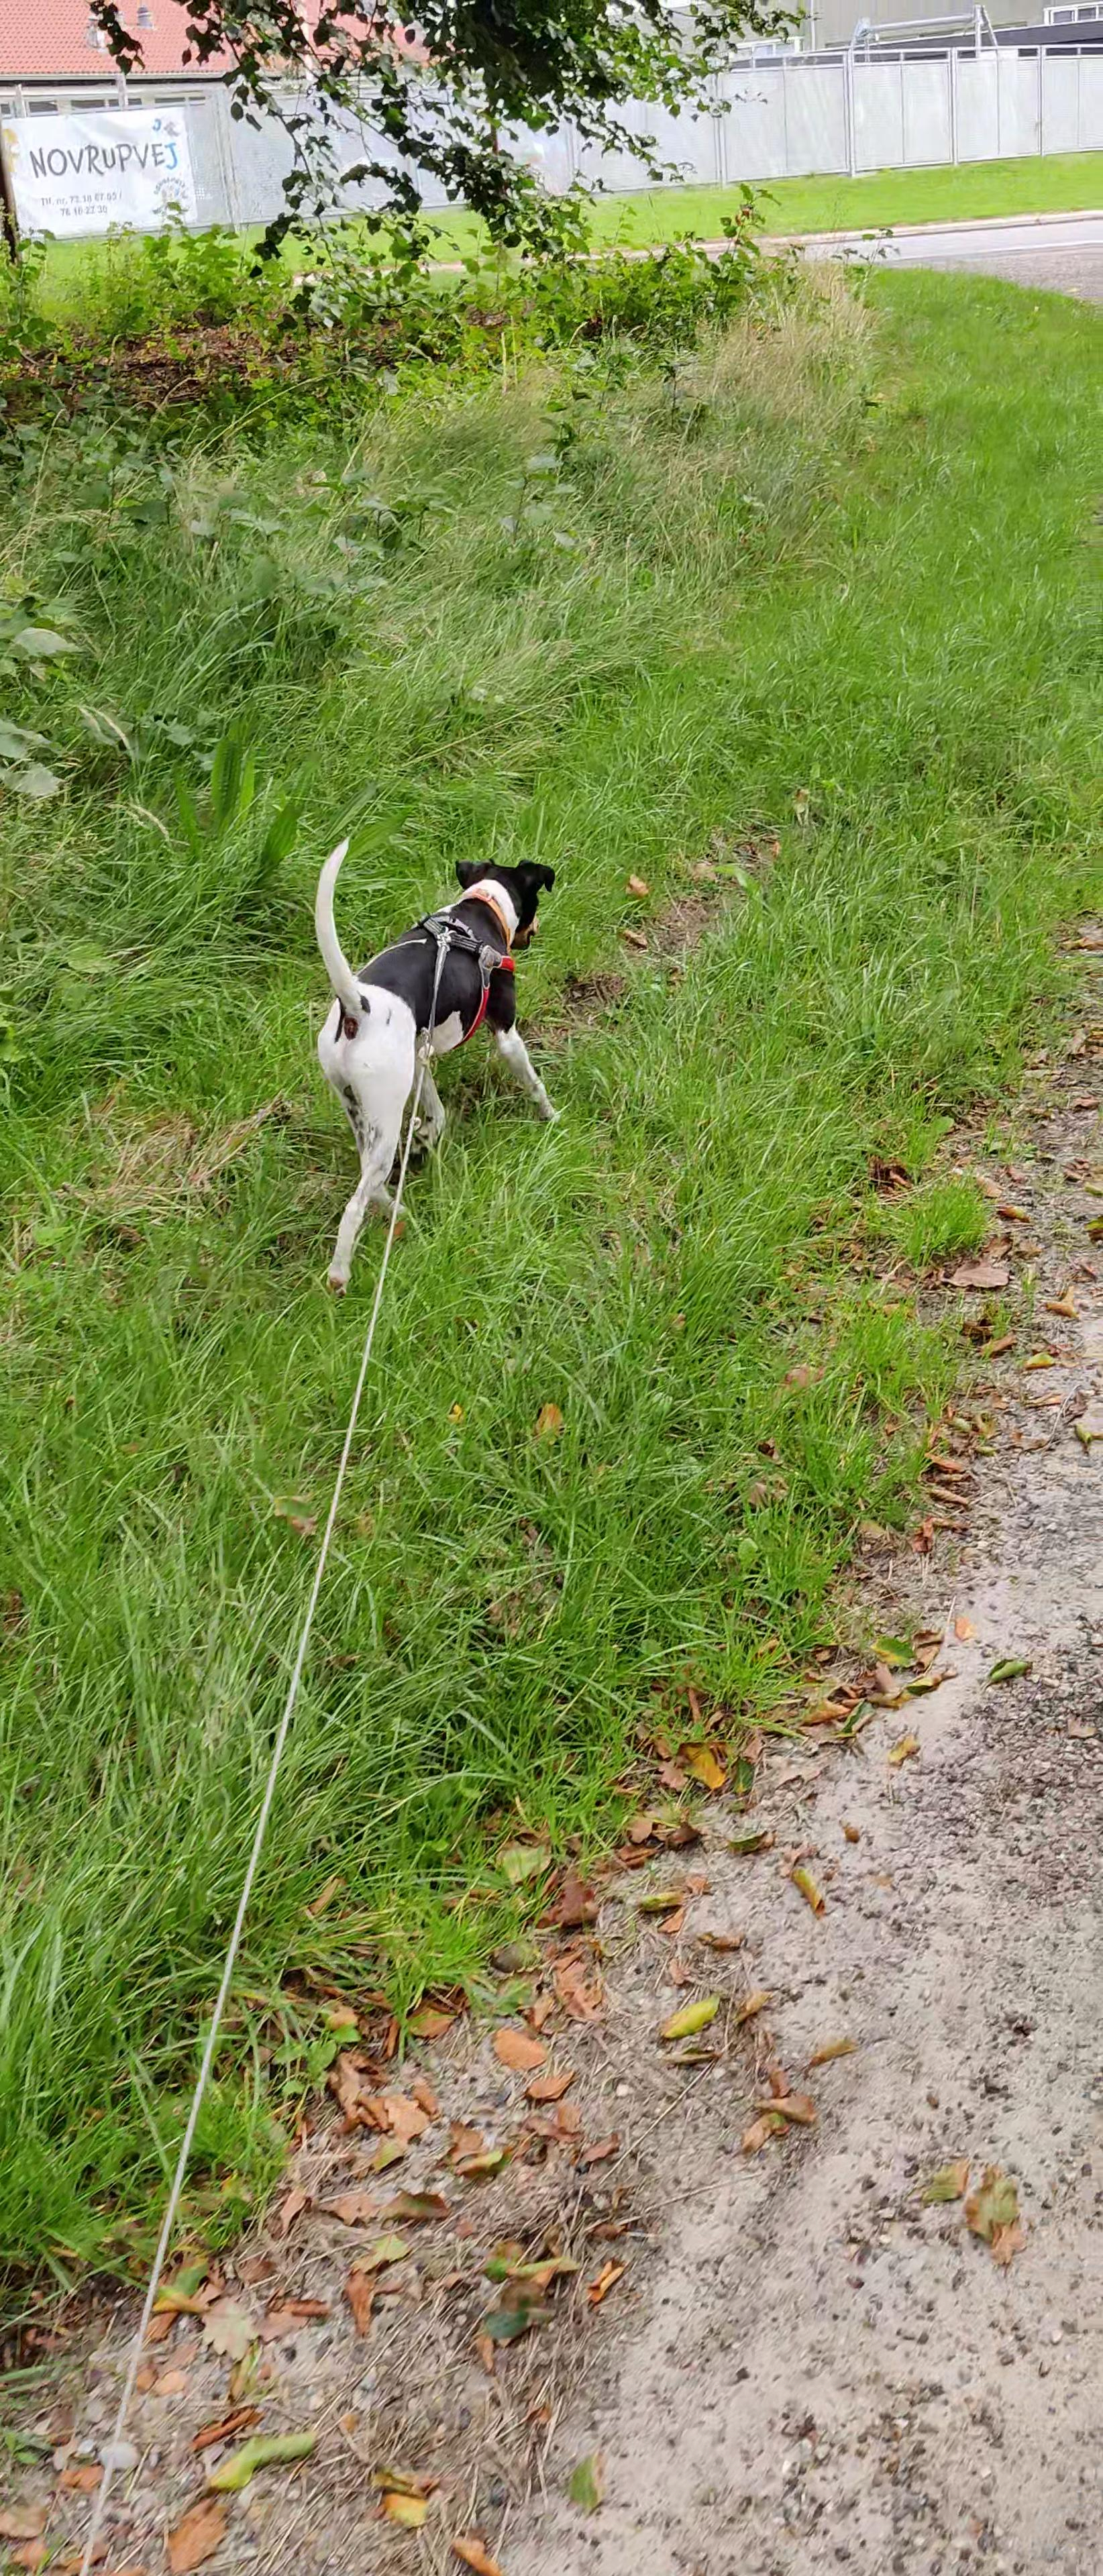Dog: (302, 831, 572, 1304)
